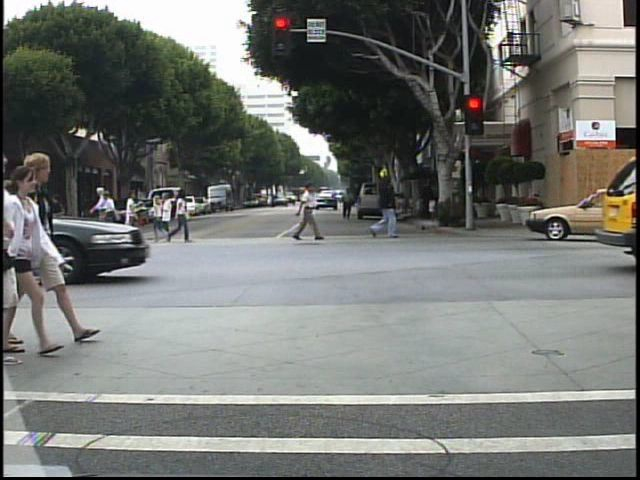person: (23, 145, 75, 349), (5, 164, 48, 364), (366, 169, 400, 242), (295, 178, 327, 242), (170, 188, 193, 246), (118, 189, 145, 232), (92, 182, 110, 246), (340, 184, 356, 220), (111, 187, 113, 246)
